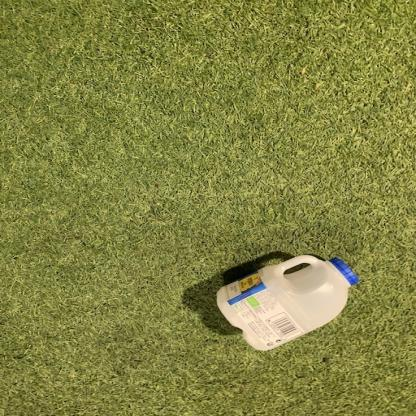trash: (214, 252, 362, 352)
